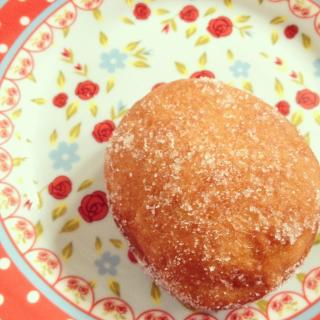Bread: (111, 79, 317, 304)
